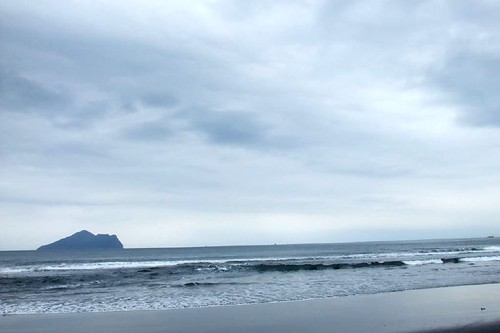turtleIsland: (37, 229, 122, 251)
